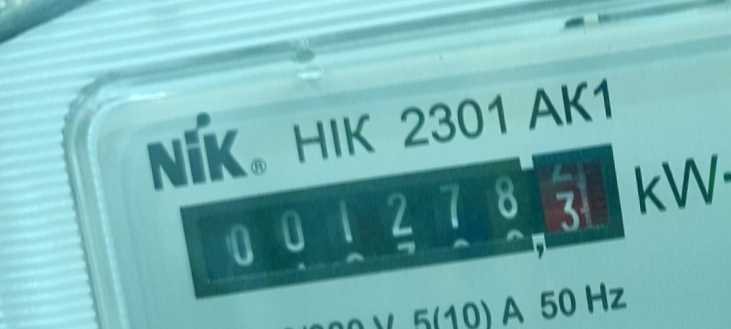0: (229, 218, 261, 268), (281, 205, 310, 253)
1: (339, 195, 360, 245)
2: (387, 188, 417, 237), (550, 161, 578, 184)
3: (556, 185, 585, 231)
7: (441, 180, 467, 230)
8: (495, 172, 524, 220)
screen: (161, 131, 647, 309)
